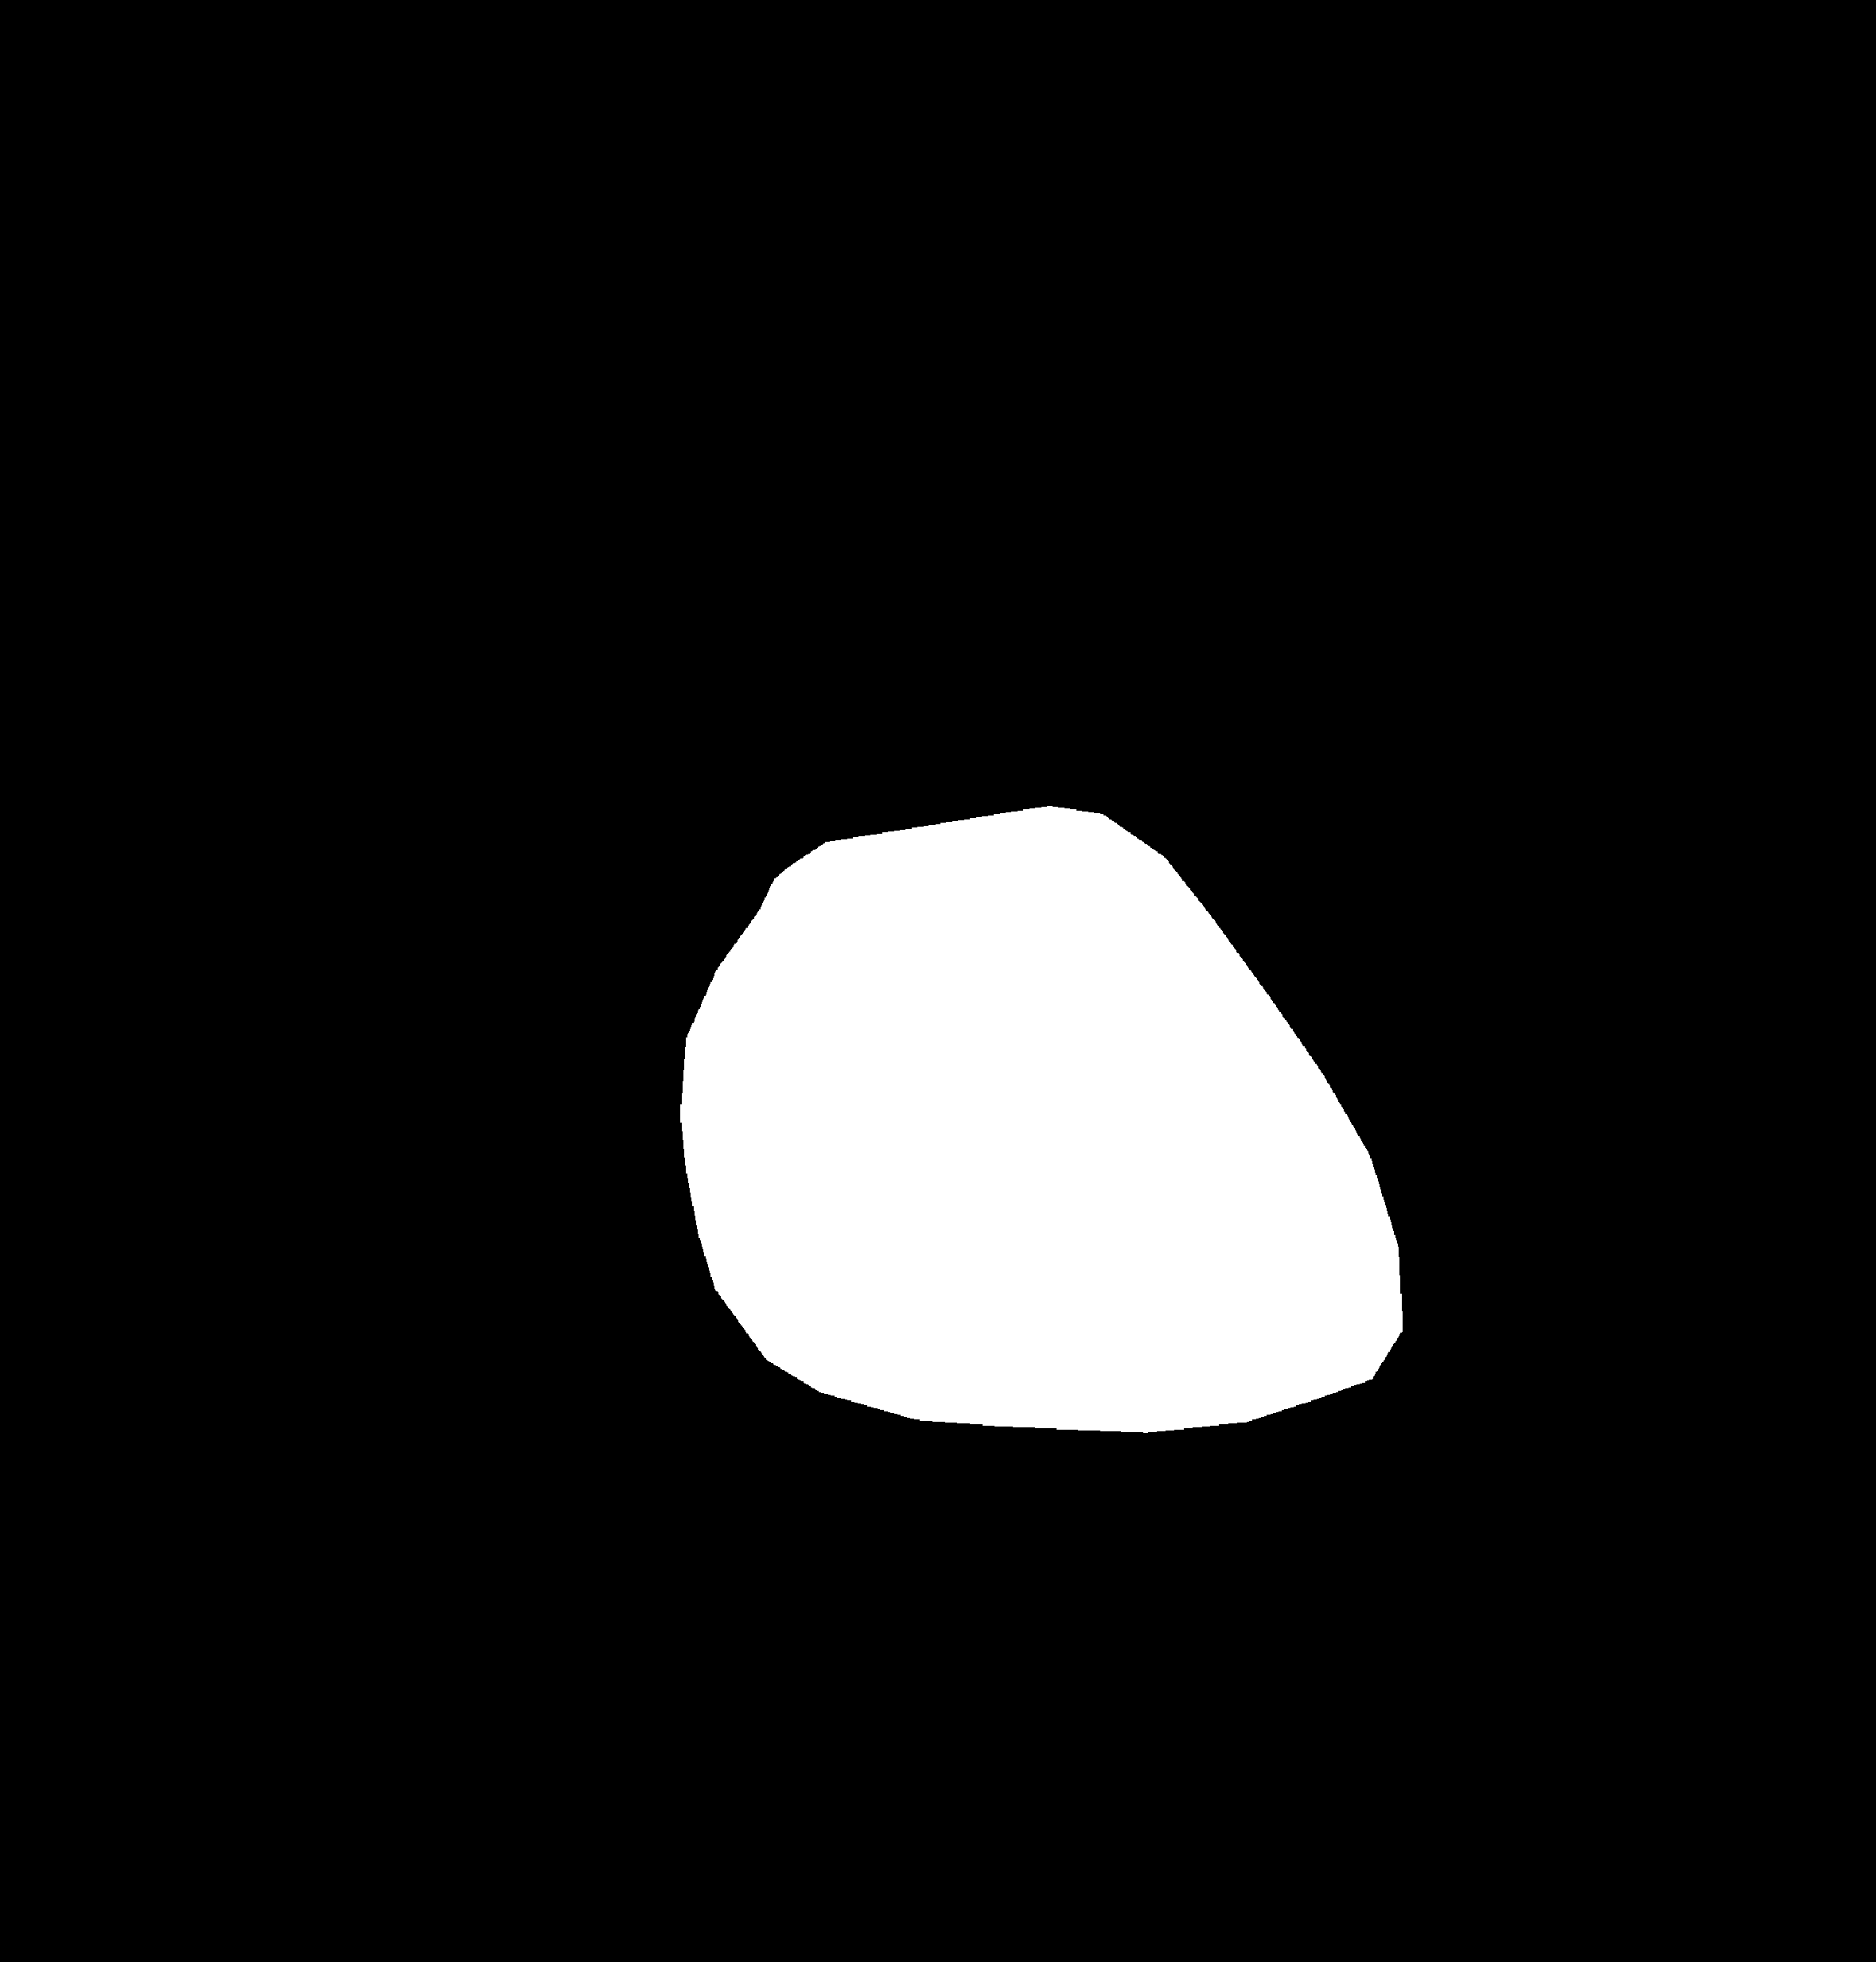heart: (685, 853, 1398, 1501)
left_lung: (137, 231, 802, 1484)
right_lung: (1009, 207, 1720, 1566)
